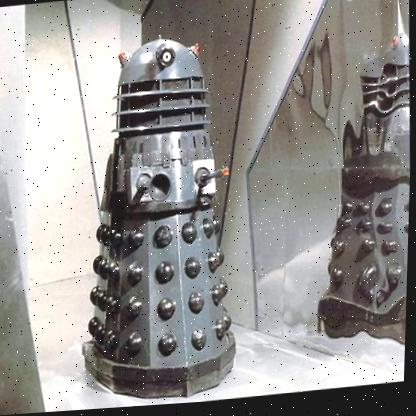dalek: (71, 25, 259, 407)
